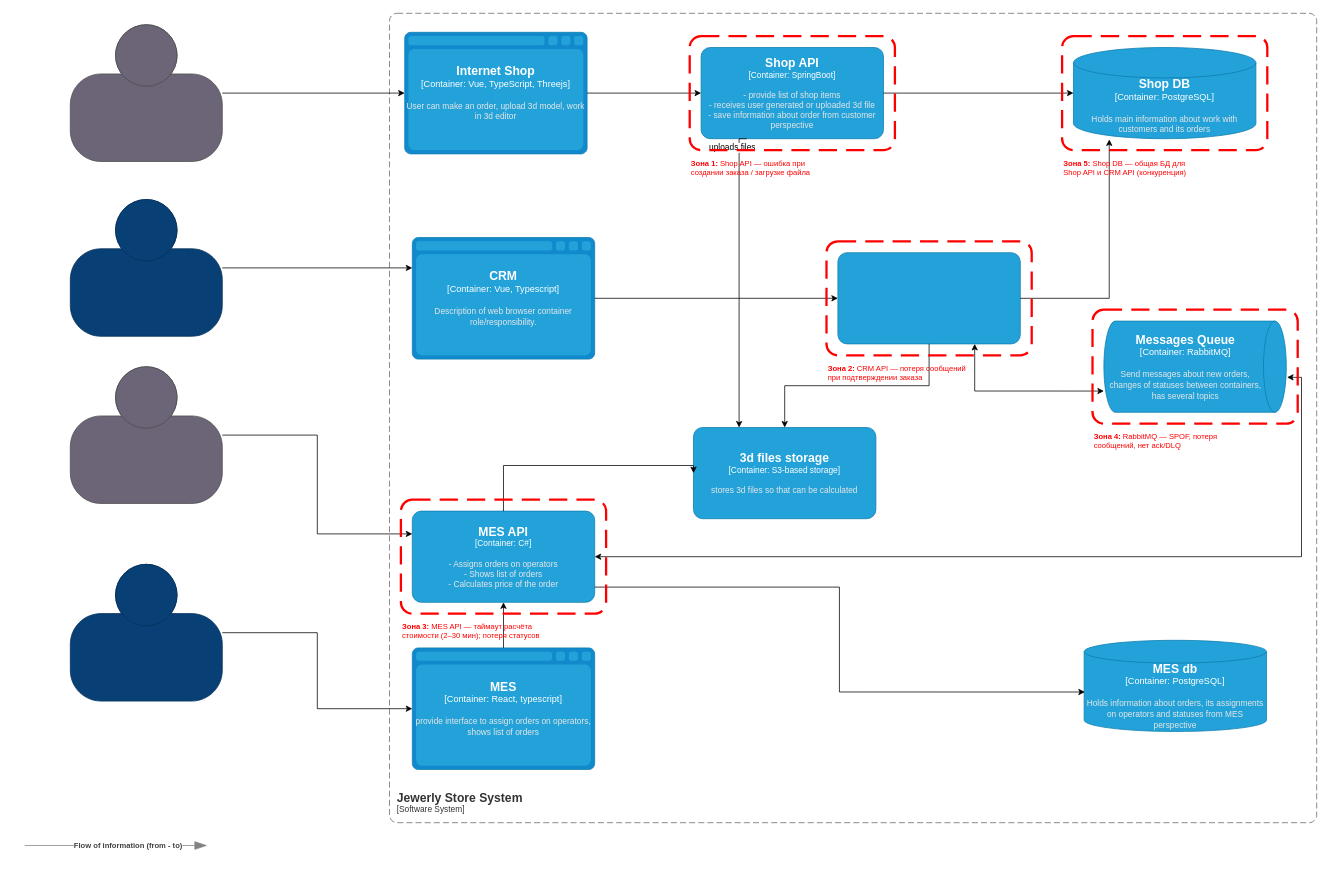
Some shapes in this 1330 by 871 pixel diagram are drawn without their labels. The shapes that lost their labels are listed below. From the top down, each one's centre as x and y in pixels, then its label:
At (x=146, y=93): "Customer [Person] Description of external person.".
At (x=146, y=267): "Seller [Person] Operates with order, confirms manufacturing for the user".
At (x=928, y=298): "CRM API [Container: SpringBoot] Description of container role/responsibility.".
At (x=146, y=435): "API user [Person] Description of external person.".
At (x=146, y=632): "Operator [Person] Takes order in work, manufactures jewerly".
